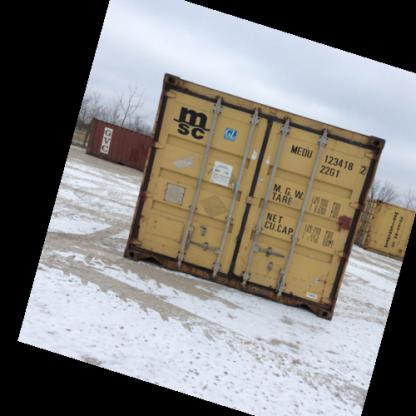Damage: (127, 238, 237, 279), (239, 279, 335, 317), (152, 66, 224, 105), (331, 127, 387, 153), (334, 209, 364, 235), (220, 246, 243, 278)
